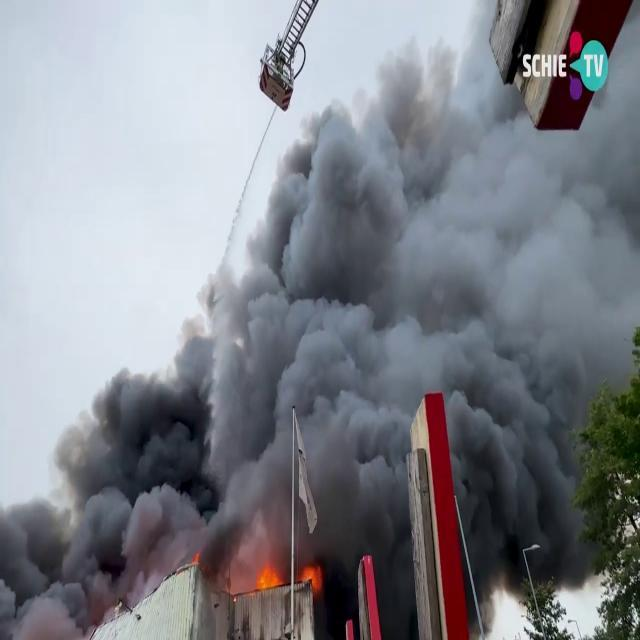Smoke: (11, 21, 625, 582)
